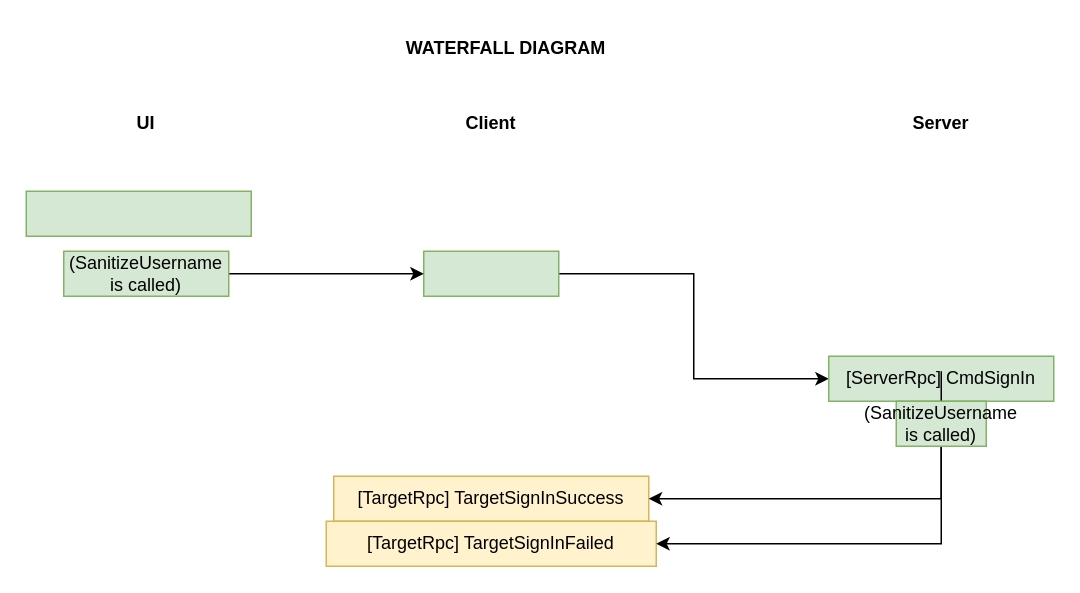
The diagram is 1080 pixels wide and 593 high, and some of its shapes have lost their labels. The centre of each missing label's shape, as x and y in pixels:
(Button) OnClick_SignIn: point 138,213
[Client] SignIn: point 490,273
